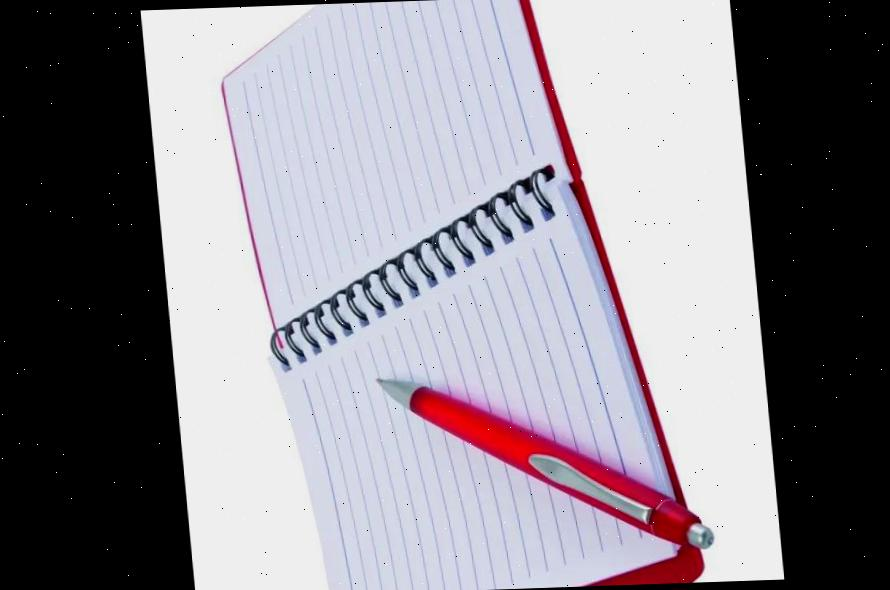pen-pencil: (377, 379, 710, 546)
